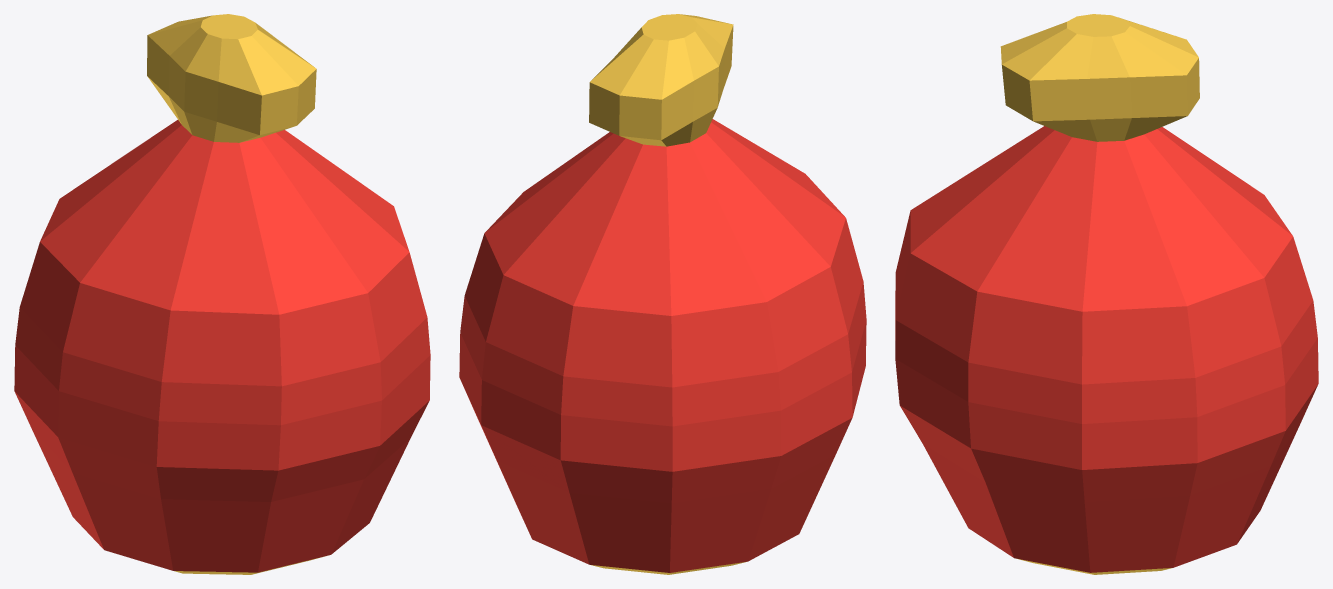
File: potion1.fbx
3 renders of one model, left to right at view 1: azimuth 30°, elevation 25°; view 2: azimuth 150°, elevation 25°; view 3: azimuth 270°, elevation 25°, orthographic. The views are drawn at different scales.
Parts seen in each view (by area): view 1: Potion1; view 2: Potion1; view 3: Potion1.
Boxes of the visible parts, left/top/right/bottom form: Potion1: left=14, top=14, right=430, bottom=574; Potion1: left=459, top=14, right=866, bottom=574; Potion1: left=895, top=14, right=1318, bottom=574.
Size of the model in its own units: 15.22 by 20.48 by 15.72.
